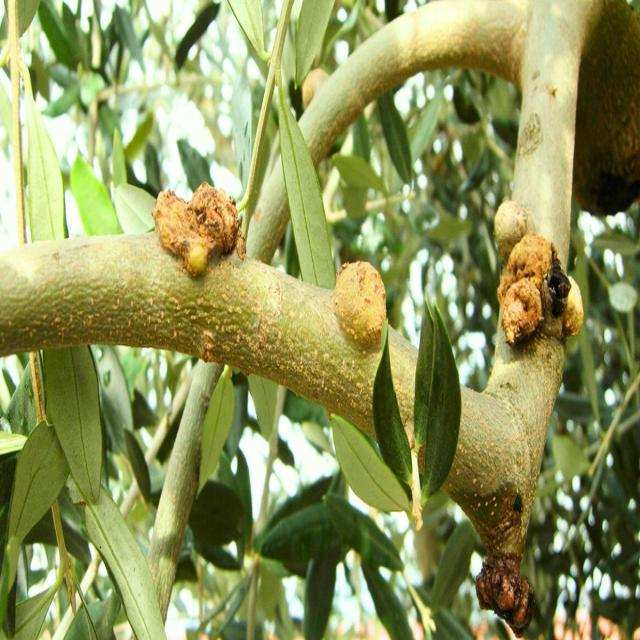Healthy: (84, 485, 165, 639), (278, 71, 335, 286), (42, 345, 104, 503), (414, 299, 461, 498), (331, 414, 412, 520), (7, 426, 70, 547), (372, 322, 411, 488), (196, 366, 234, 498)
Tuberculosis: (498, 235, 583, 347), (152, 182, 245, 276), (476, 554, 537, 636)
